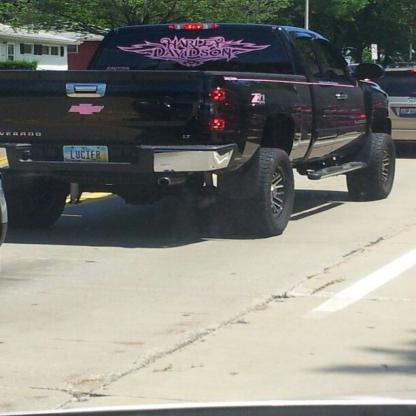License-Plate: (60, 143, 110, 165)
